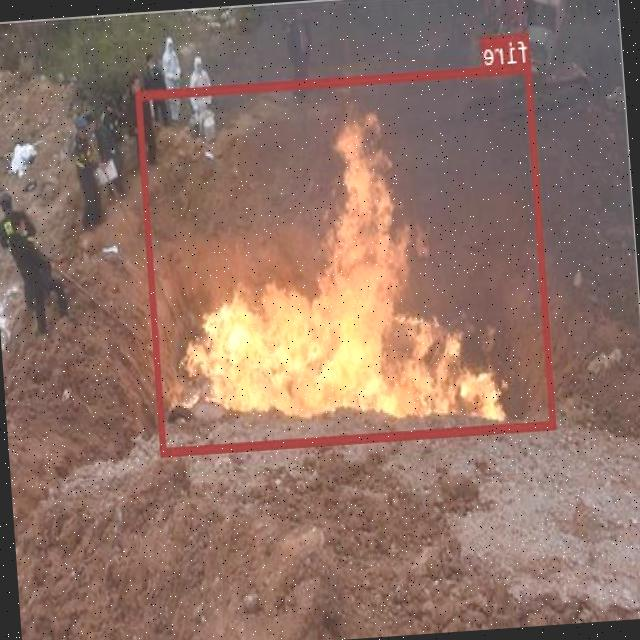fire: (136, 63, 556, 454)
